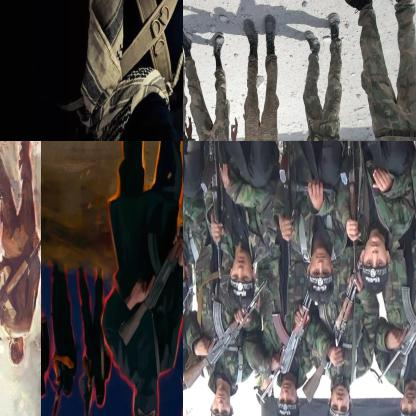rifle: (117, 175, 182, 347), (301, 247, 367, 404), (183, 275, 270, 389), (254, 286, 315, 406), (370, 271, 415, 388), (0, 234, 42, 342), (204, 141, 233, 283), (275, 141, 300, 281), (339, 141, 361, 289), (183, 277, 196, 364)
